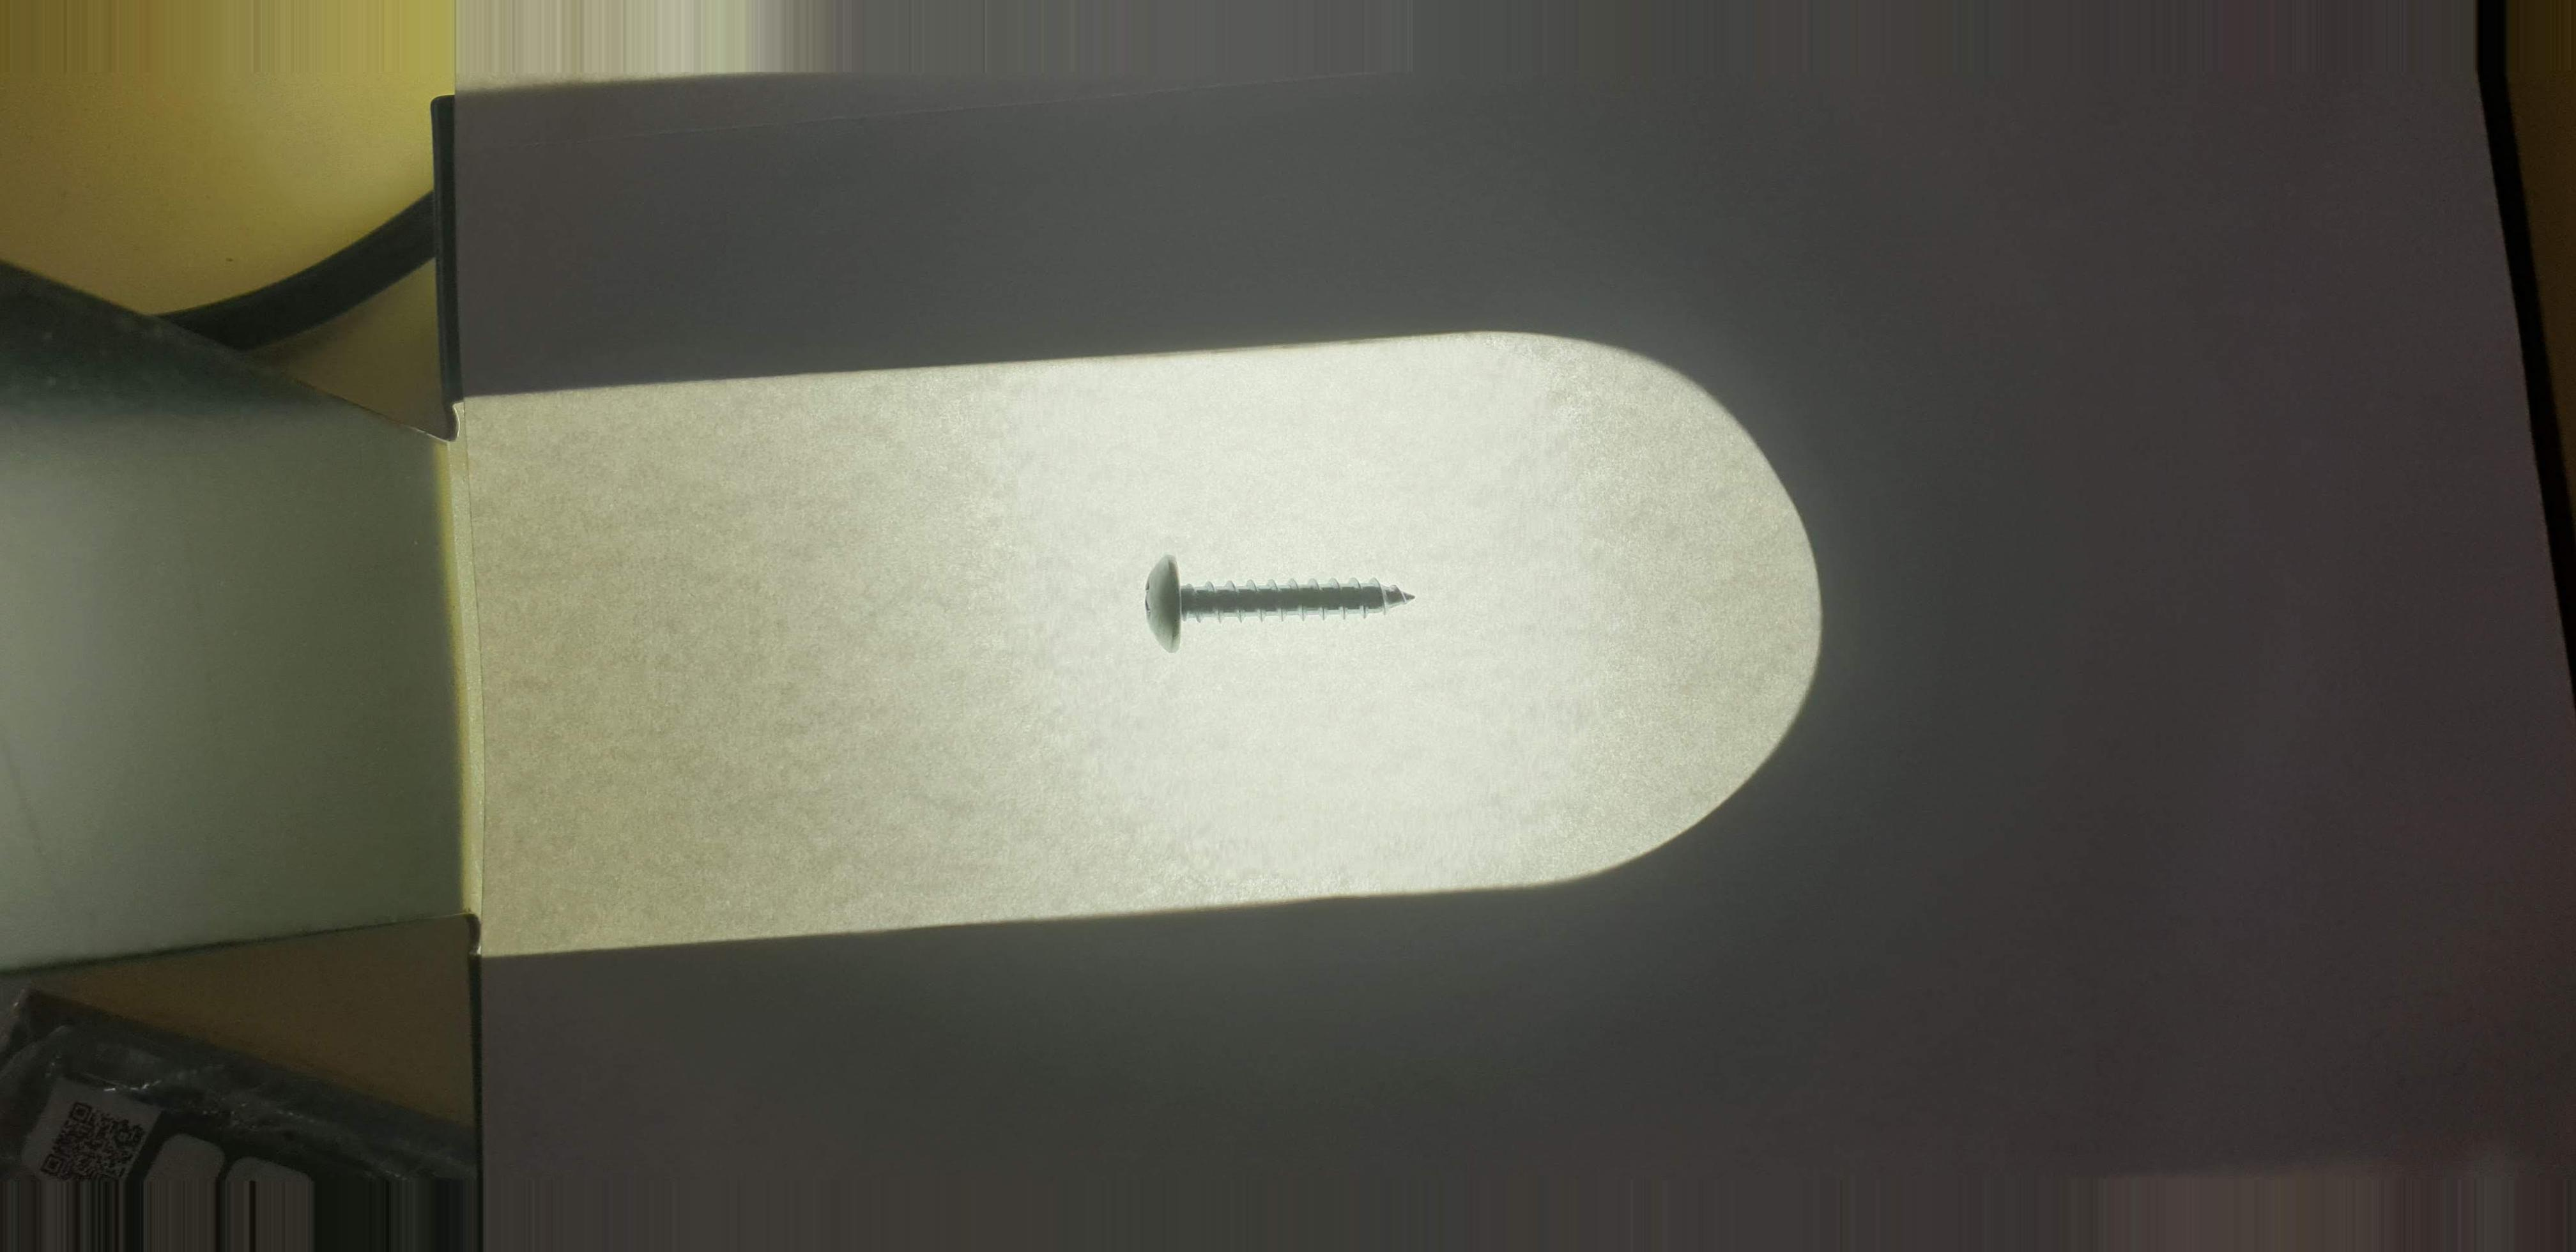S002: (1120, 526, 1477, 665)
